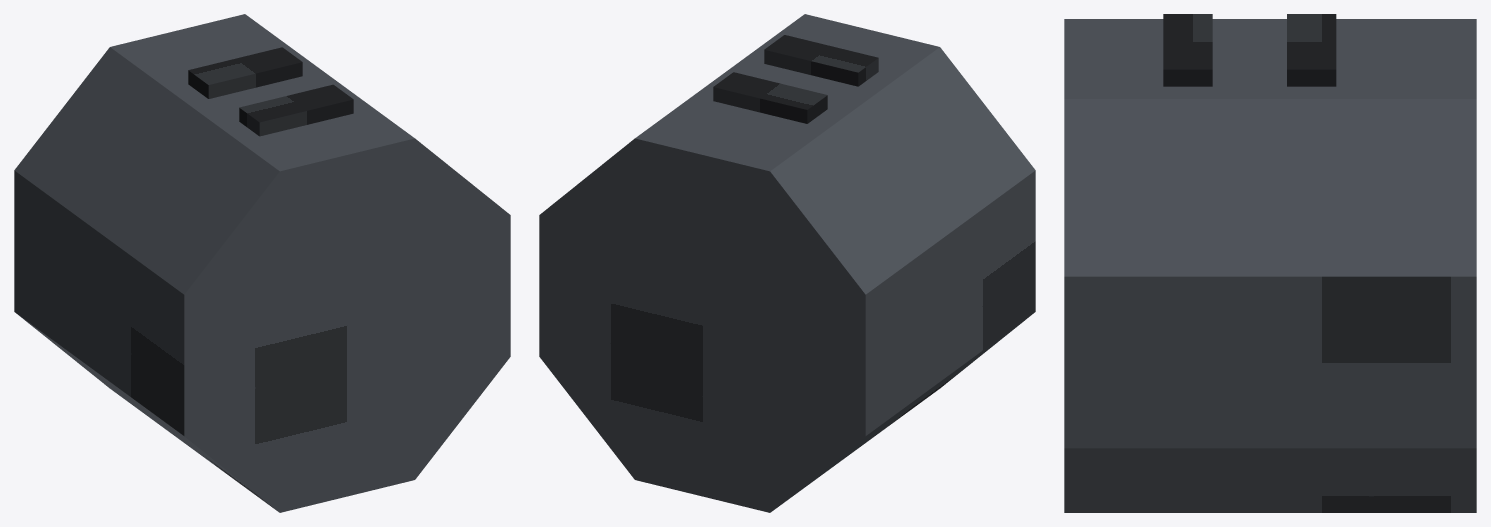
File: att_choke.glb
3 renders of one model, left to right at view 1: azimuth 30°, elevation 25°; view 2: azimuth 150°, elevation 25°; view 3: azimuth 270°, elevation 25°, orthographic. The views are drawn at different scales.
Visible parts, largest first — view 1: Body; view 2: Body; view 3: Body.
Part boxes in pixels (x1,y1,x2,y2): Body: [14, 14, 510, 512]; Body: [539, 14, 1035, 512]; Body: [1064, 14, 1476, 512].
Bounding box in the file's own units: 0.0554 × 0.0577 × 0.05.
Materials: 2 (2 with a texture image).
